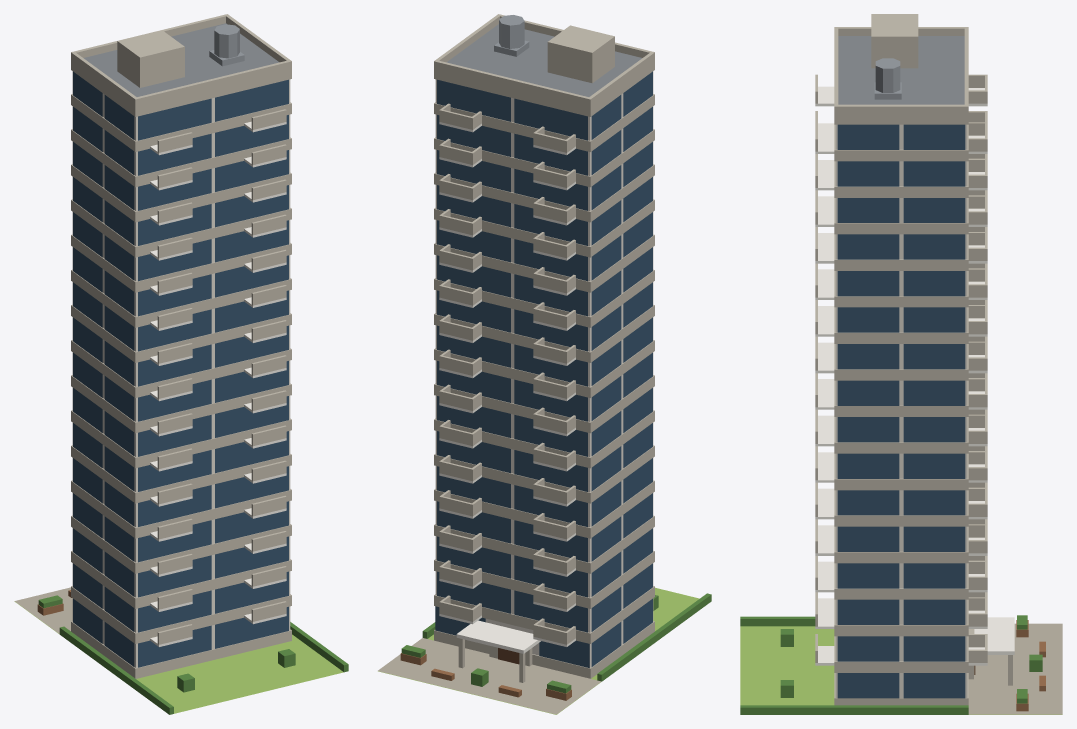
3 views of the same model, side by side, from view 1: azimuth 30°, elevation 25°; view 2: azimuth 150°, elevation 25°; view 3: azimuth 270°, elevation 25° (orthographic). The views are drawn at different scales.
Parts seen in each view (by area): view 1: window_band (×64), spandrel (×17), lawn, walls, roof, parapet (×4), plant_room, hedge (×2), plaza, water_tank; view 2: window_band (×63), spandrel (×17), parapet (×34), plaza, walls, roof, plant_room, canopy, hedge, lawn, water_tank; view 3: window_band (×32), spandrel (×17), parapet (×18), lawn, roof, plaza, walls, hedge (×2), plant_room, canopy, water_tank.
Boxes of the visible parts, bbox=[...] form: window_band (×64): bbox=[73, 71, 288, 667]; spandrel (×17): bbox=[71, 59, 291, 678]; lawn: bbox=[14, 601, 343, 713]; walls: bbox=[72, 71, 290, 667]; roof: bbox=[83, 23, 279, 96]; parapet (×4): bbox=[71, 14, 291, 106]; plant_room: bbox=[117, 30, 184, 87]; hedge (×2): bbox=[59, 622, 348, 714]; plaza: bbox=[14, 587, 72, 633]; water_tank: bbox=[214, 24, 239, 58]; window_band (×63): bbox=[437, 71, 652, 667]; spandrel (×17): bbox=[434, 59, 654, 678]; parapet (×34): bbox=[434, 14, 654, 644]; plaza: bbox=[378, 638, 601, 714]; walls: bbox=[435, 71, 653, 667]; roof: bbox=[446, 24, 642, 96]; plant_room: bbox=[547, 25, 614, 83]; canopy: bbox=[456, 620, 540, 653]; hedge: bbox=[597, 593, 711, 681]; lawn: bbox=[378, 587, 699, 714]; water_tank: bbox=[499, 15, 524, 48]; window_band (×32): bbox=[837, 124, 965, 698]; spandrel (×17): bbox=[834, 113, 968, 705]; parapet (×18): bbox=[838, 27, 987, 662]; lawn: bbox=[740, 626, 1062, 714]; roof: bbox=[838, 36, 964, 104]; plaza: bbox=[968, 623, 1062, 714]; walls: bbox=[835, 124, 967, 697]; hedge (×2): bbox=[740, 616, 968, 714]; plant_room: bbox=[871, 14, 918, 68]; canopy: bbox=[974, 617, 1014, 654]; water_tank: bbox=[875, 58, 900, 92].
Size of the model in its own units: 16 by 51.5 by 24.
